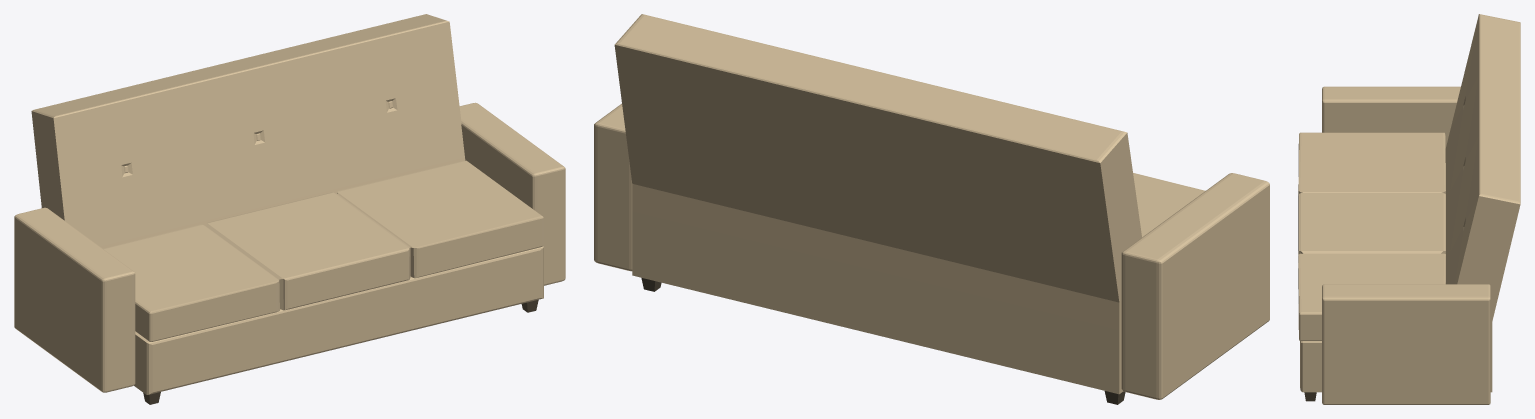
File: Couch.fbx
The picture shows the model from 3 angles, left to right: view 1: azimuth 30°, elevation 25°; view 2: azimuth 150°, elevation 25°; view 3: azimuth 270°, elevation 25°; orthographic projection. The views are drawn at different scales.
Visible parts, largest first — view 1: Cube; view 2: Cube; view 3: Cube.
Part boxes in pixels (x1,y1,x2,y2): Cube: (14,14,565,404); Cube: (594,14,1269,404); Cube: (1298,14,1520,404).
Bounding box in the file's own units: 223 × 102 × 98.46.
